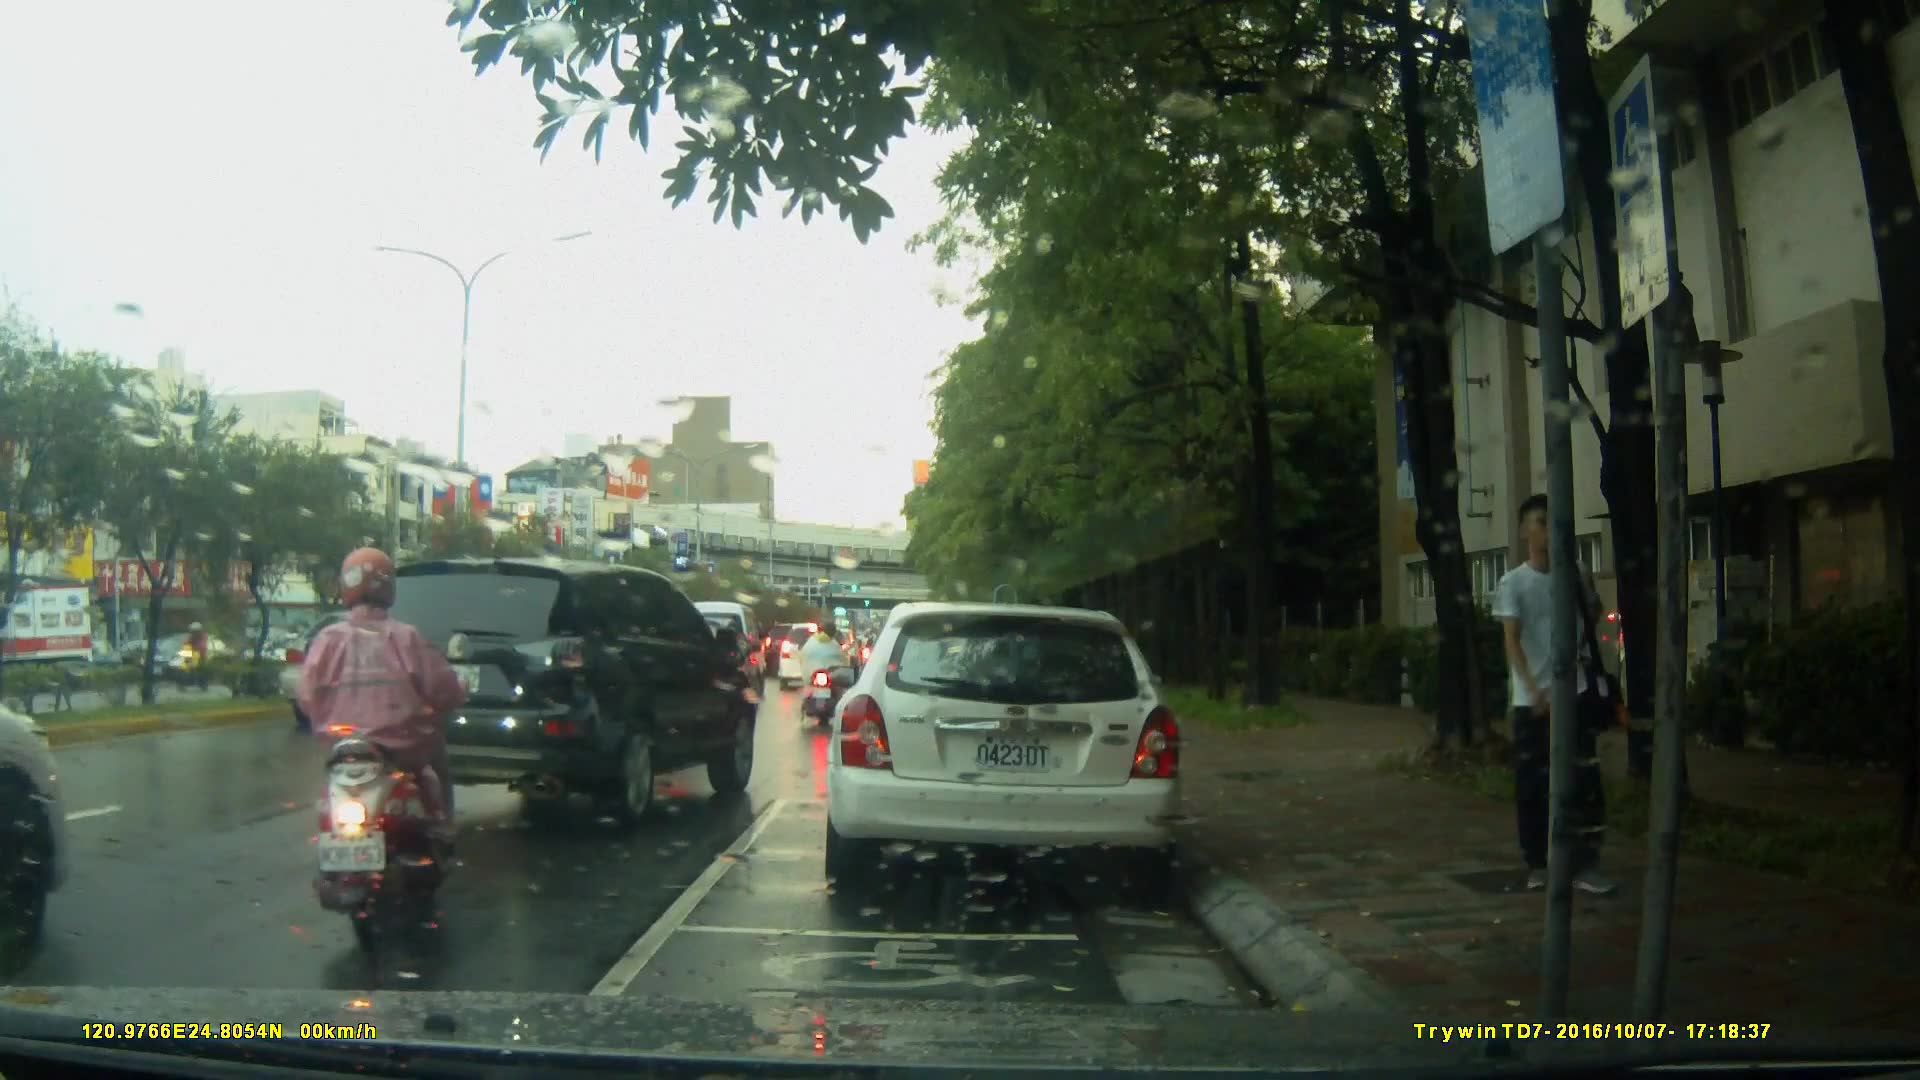pedestrian: (1476, 487, 1622, 913)
rider: (285, 544, 471, 948), (800, 622, 856, 729), (813, 625, 854, 700)
vehicle: (820, 602, 1188, 898), (356, 557, 760, 826), (134, 631, 243, 686), (777, 621, 852, 694)
